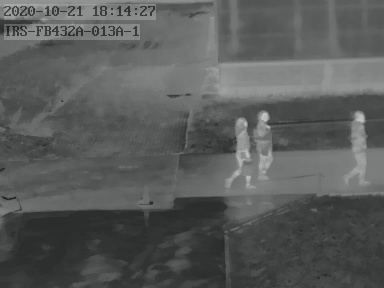person: (345, 110, 373, 184), (225, 117, 253, 187), (255, 110, 273, 177)
